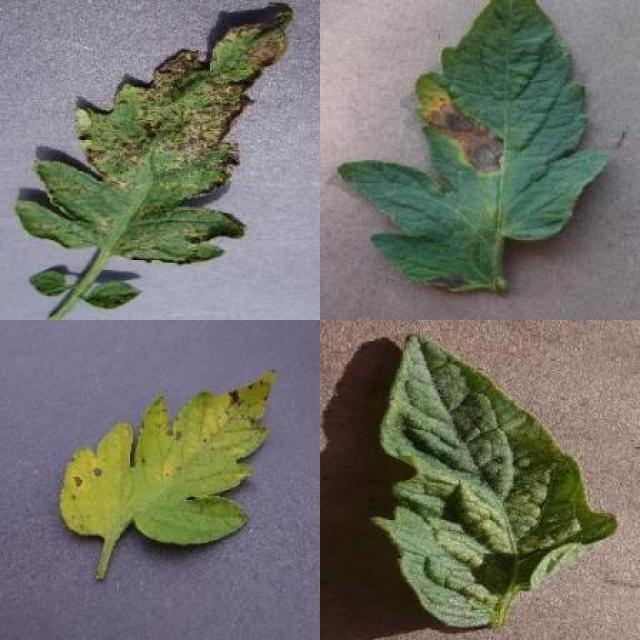Early Blight: (338, 0, 611, 294)
Septoria: (20, 12, 296, 264), (61, 368, 278, 546)
Spider Mites: (372, 328, 619, 631)
